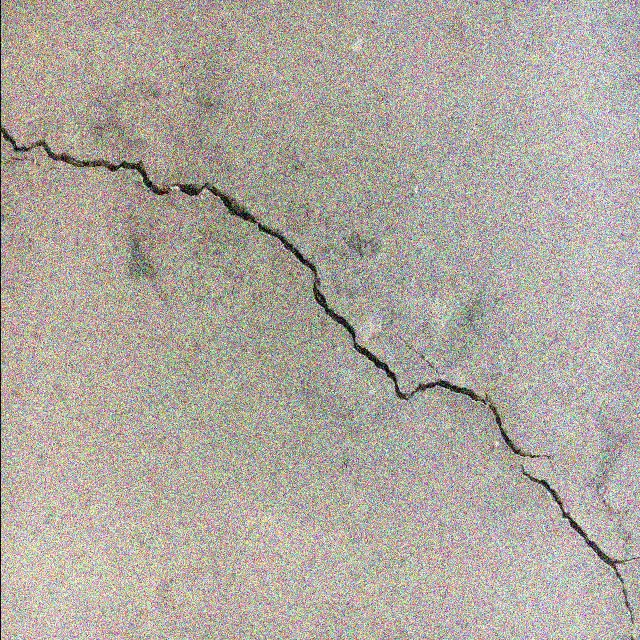SurfaceCrack: (1, 33, 639, 639)
